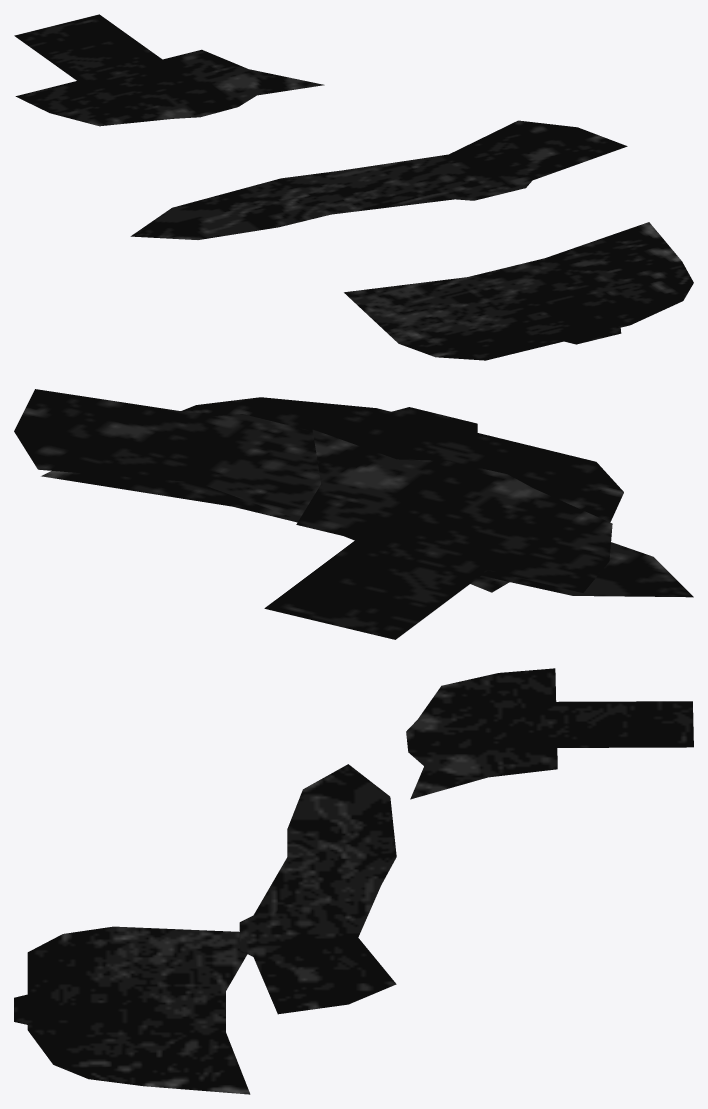
The model's file is sea_9.dae.
3 views of the same model, one above another, from view 1: azimuth 30°, elevation 25°; view 2: azimuth 150°, elevation 25°; view 3: azimuth 270°, elevation 25° (orthographic). The views are drawn at different scales.
Visible parts, largest first — view 1: m1; view 2: m1; view 3: m1.
Part boxes in pixels (x1,y1,x2,y2): m1: [14, 14, 693, 360]; m1: [14, 389, 693, 639]; m1: [14, 668, 693, 1094].
Size of what is drawn, in the model's own units: 4611 by 1291 by 4975.
1 material, 1 textured.
